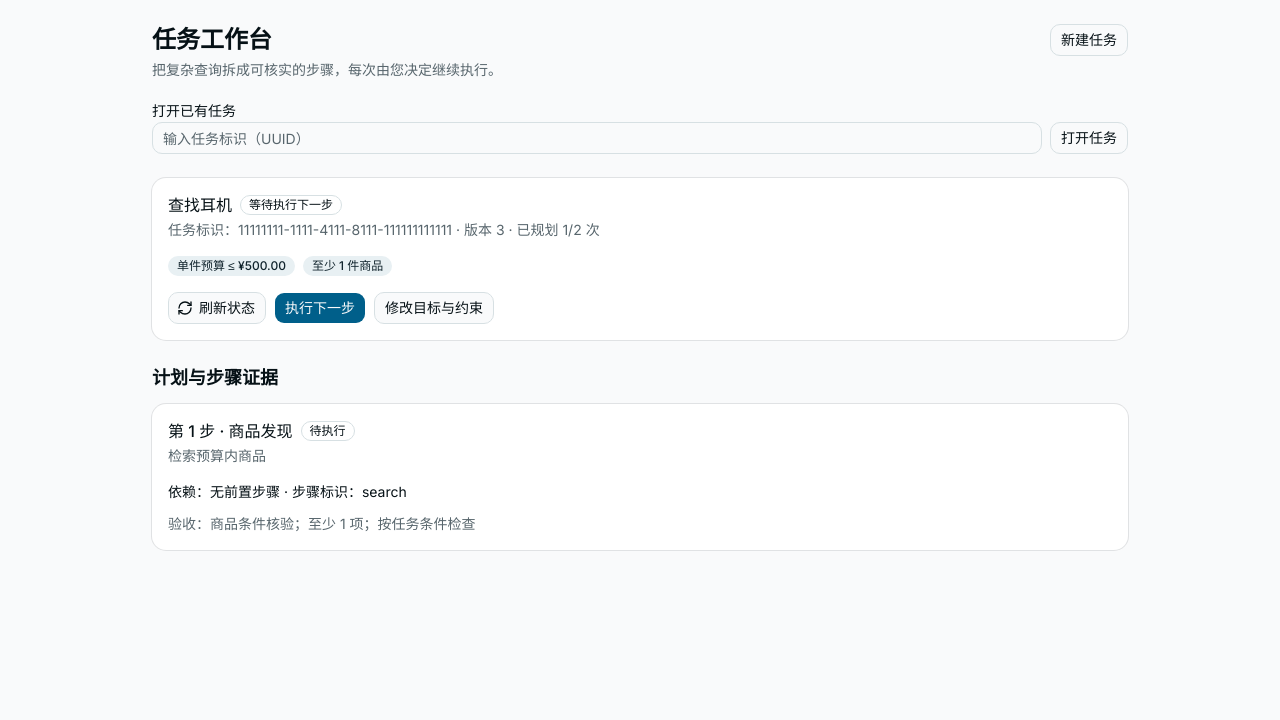
任务工作台 › 读取计划后只在点击时推进当前版本的一步，并展示事实回执
This screenshot has width=1280, height=720.
Step 1. Click the button "执行下一步" → (320, 308), box [274,292,366,324]
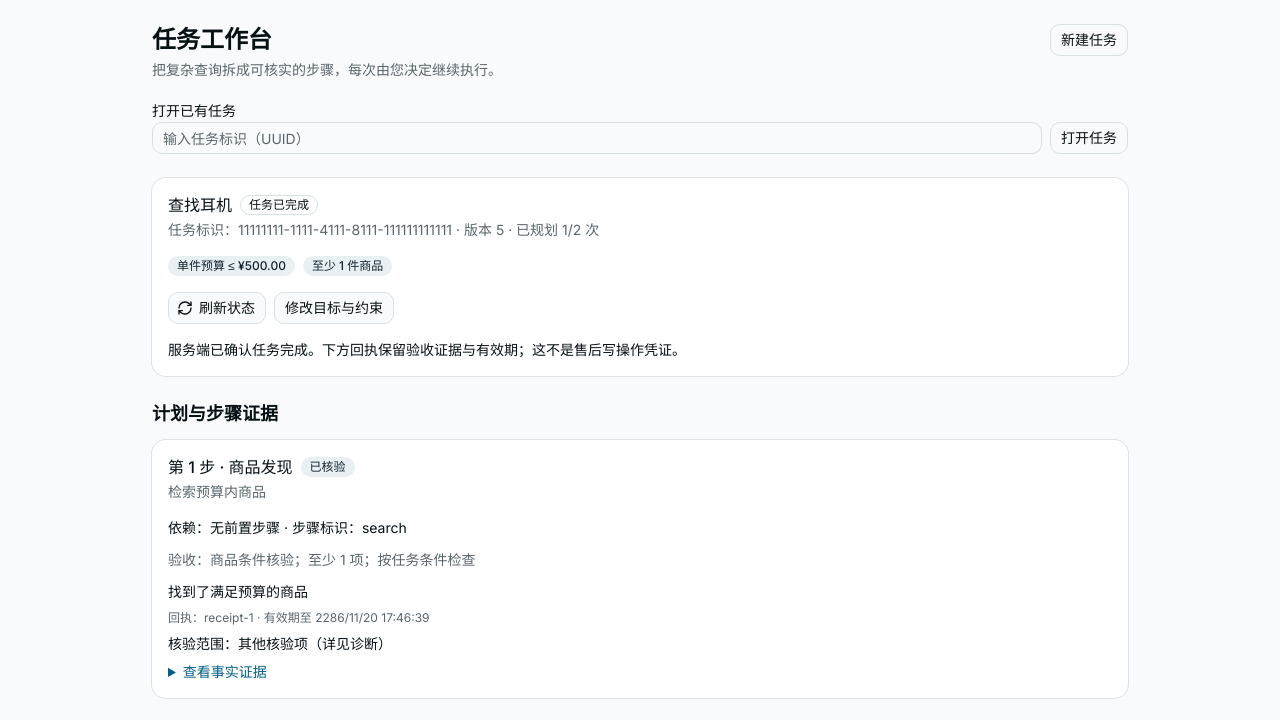
Check: the text "找到了满足预算的商品" is shown, box [168,583,308,600]
Check: the icon "已核验" is shown, box [301,457,355,477]
